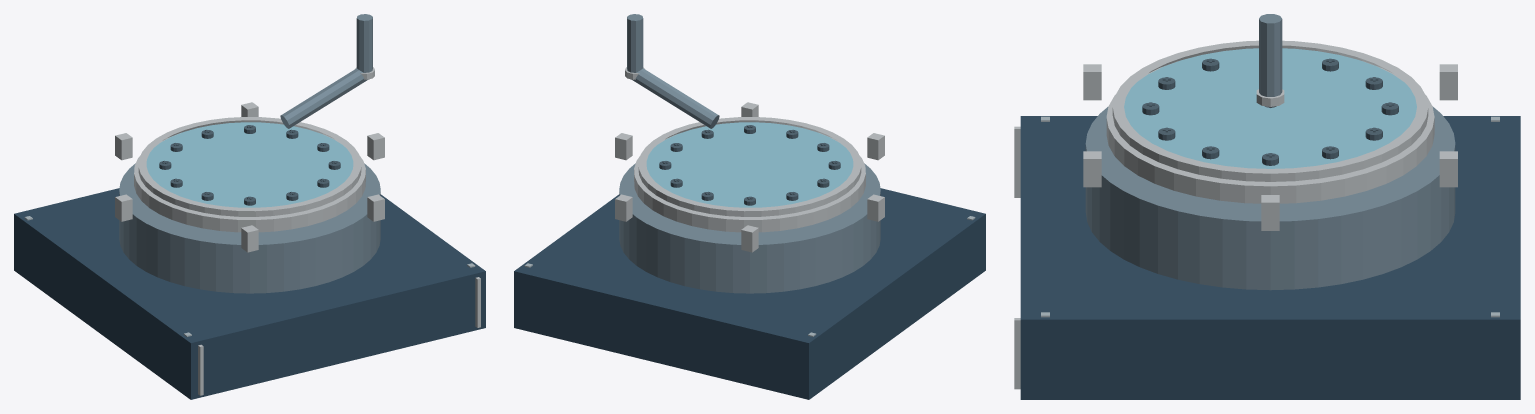
Rendered from 42_L73_SpinRinseDryer.glb.
The picture shows the model from 3 angles, left to right: view 1: azimuth 30°, elevation 25°; view 2: azimuth 150°, elevation 25°; view 3: azimuth 270°, elevation 25°; orthographic projection. The views are drawn at different scales.
Parts seen in each view (by area): view 1: SpinRinseDryer_Node_0000, SpinRinseDryer_Node_0007, SpinRinseDryer_Node_0008, SpinRinseDryer_Node_0009, SpinRinseDryer_Node_0010, SpinRinseDryer_Node_0054, SpinRinseDryer_Node_0053, SpinRinseDryer_Node_0051, SpinRinseDryer_Node_0047, SpinRinseDryer_Node_0048, SpinRinseDryer_Node_0049, SpinRinseDryer_Node_0050; view 2: SpinRinseDryer_Node_0000, SpinRinseDryer_Node_0007, SpinRinseDryer_Node_0008, SpinRinseDryer_Node_0009, SpinRinseDryer_Node_0010, SpinRinseDryer_Node_0054, SpinRinseDryer_Node_0053, SpinRinseDryer_Node_0049, SpinRinseDryer_Node_0047, SpinRinseDryer_Node_0050, SpinRinseDryer_Node_0051, SpinRinseDryer_Node_0052; view 3: SpinRinseDryer_Node_0000, SpinRinseDryer_Node_0007, SpinRinseDryer_Node_0008, SpinRinseDryer_Node_0010, SpinRinseDryer_Node_0009, SpinRinseDryer_Node_0053, SpinRinseDryer_Node_0048, SpinRinseDryer_Node_0049, SpinRinseDryer_Node_0051, SpinRinseDryer_Node_0052, SpinRinseDryer_Node_0047, SpinRinseDryer_Node_0005 (+1 smaller).
Boxes of the visible parts, <box> form: SpinRinseDryer_Node_0000: <box>14,188,485,399</box>; SpinRinseDryer_Node_0007: <box>119,163,380,293</box>; SpinRinseDryer_Node_0008: <box>146,122,353,207</box>; SpinRinseDryer_Node_0009: <box>138,117,361,216</box>; SpinRinseDryer_Node_0010: <box>134,133,365,232</box>; SpinRinseDryer_Node_0054: <box>280,68,367,128</box>; SpinRinseDryer_Node_0053: <box>356,14,372,72</box>; SpinRinseDryer_Node_0051: <box>115,133,132,160</box>; SpinRinseDryer_Node_0047: <box>367,133,384,160</box>; SpinRinseDryer_Node_0048: <box>367,194,384,221</box>; SpinRinseDryer_Node_0049: <box>241,225,258,252</box>; SpinRinseDryer_Node_0050: <box>115,194,132,221</box>; SpinRinseDryer_Node_0000: <box>514,188,985,399</box>; SpinRinseDryer_Node_0007: <box>619,163,880,293</box>; SpinRinseDryer_Node_0008: <box>646,122,853,207</box>; SpinRinseDryer_Node_0009: <box>638,117,861,216</box>; SpinRinseDryer_Node_0010: <box>634,133,865,232</box>; SpinRinseDryer_Node_0054: <box>632,68,719,128</box>; SpinRinseDryer_Node_0053: <box>627,14,643,72</box>; SpinRinseDryer_Node_0049: <box>867,133,884,160</box>; SpinRinseDryer_Node_0047: <box>615,133,632,160</box>; SpinRinseDryer_Node_0050: <box>867,194,884,221</box>; SpinRinseDryer_Node_0051: <box>741,225,758,252</box>; SpinRinseDryer_Node_0052: <box>615,194,632,221</box>; SpinRinseDryer_Node_0000: <box>1020,116,1520,399</box>; SpinRinseDryer_Node_0007: <box>1085,106,1455,290</box>; SpinRinseDryer_Node_0008: <box>1124,48,1416,168</box>; SpinRinseDryer_Node_0010: <box>1106,61,1434,203</box>; SpinRinseDryer_Node_0009: <box>1112,40,1428,181</box>; SpinRinseDryer_Node_0053: <box>1259,14,1282,96</box>; SpinRinseDryer_Node_0048: <box>1083,151,1101,187</box>; SpinRinseDryer_Node_0049: <box>1083,64,1101,100</box>; SpinRinseDryer_Node_0051: <box>1439,64,1457,100</box>; SpinRinseDryer_Node_0052: <box>1439,151,1457,187</box>; SpinRinseDryer_Node_0047: <box>1261,195,1279,230</box>; SpinRinseDryer_Node_0005: <box>1014,126,1020,197</box>.
Bounding box in the file's own units: 1.85 × 1.52 × 1.94.
